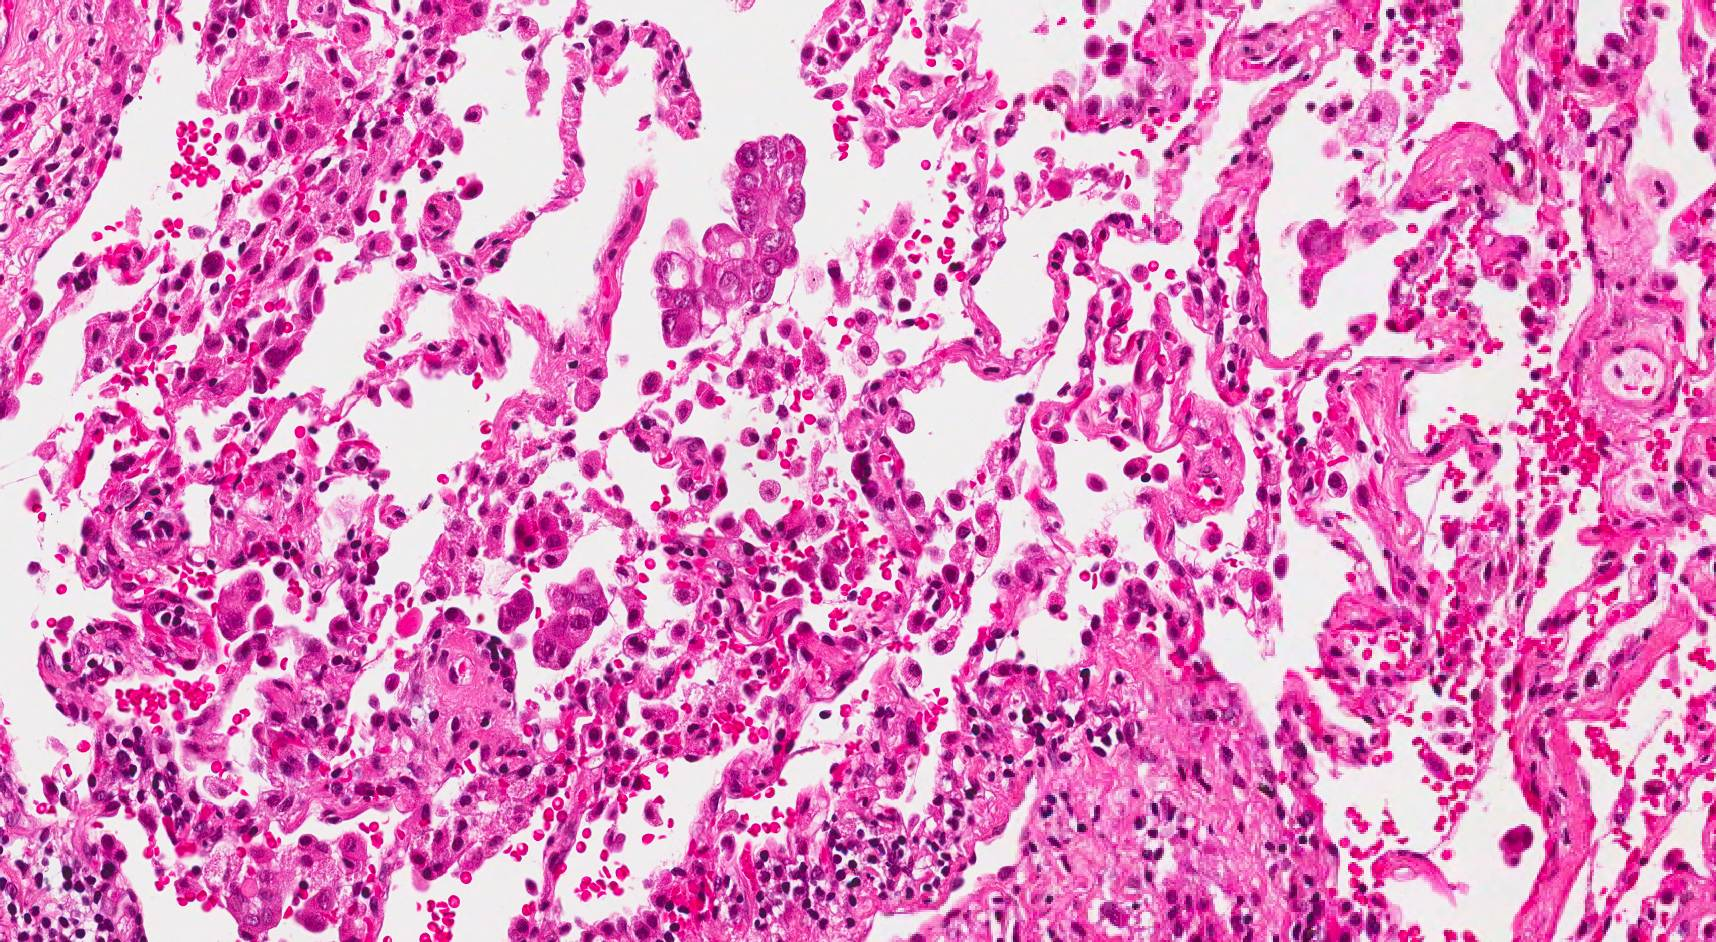stas: (650, 133, 809, 351), (533, 567, 609, 674), (212, 572, 272, 639), (495, 583, 535, 637)
